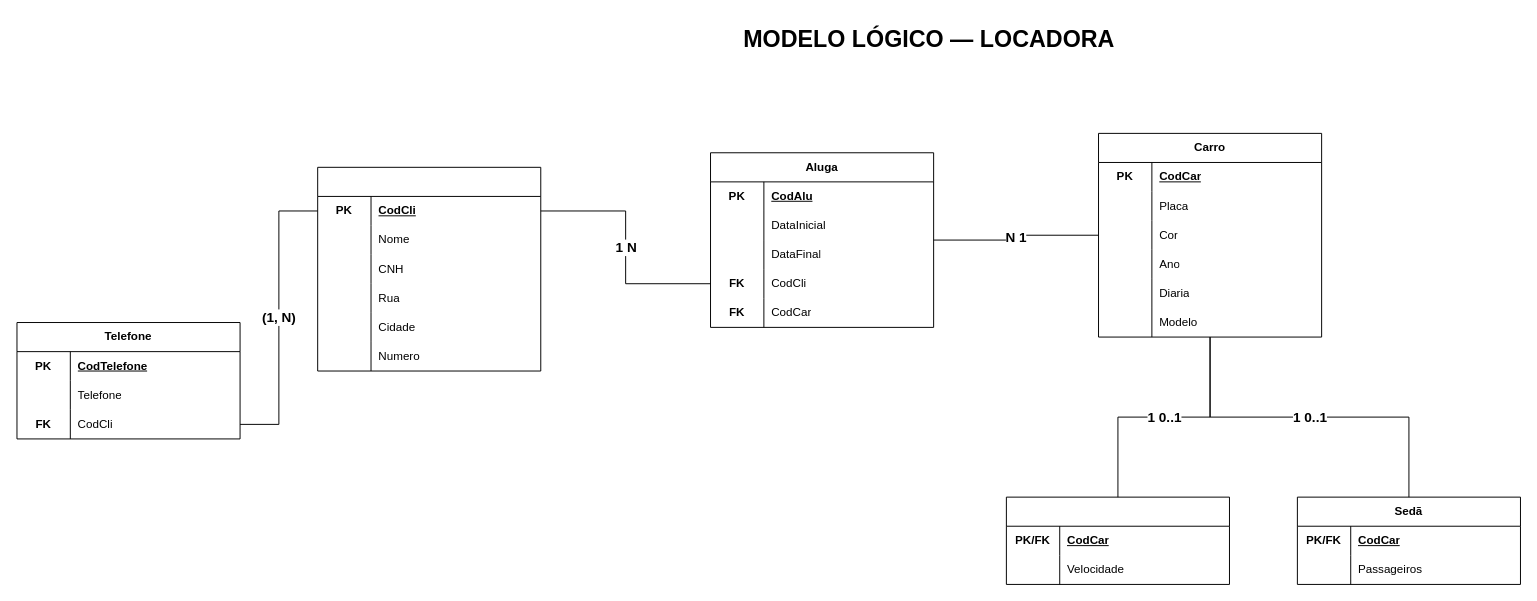
Some shapes in this 1537 by 601 pixel diagram are drawn without their labels. The shapes that lost their labels are listed below. From the top down, each one's box as (x1, y1, x2, y2) in pixels, then its label:
(317, 166, 541, 371): Cliente
(1005, 496, 1229, 584): Esportivo
